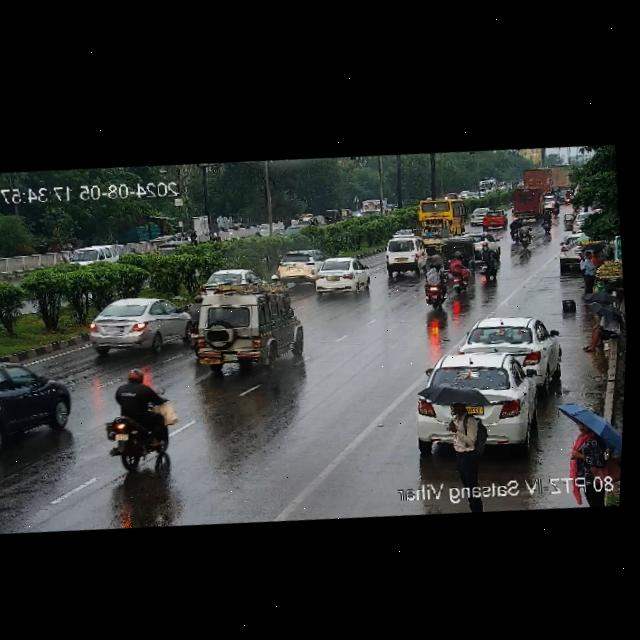car: (412, 345, 544, 458), (185, 282, 312, 377), (0, 352, 79, 462), (81, 288, 193, 363), (454, 308, 561, 384), (310, 253, 373, 300), (197, 262, 269, 300), (552, 229, 604, 272), (274, 244, 328, 284), (382, 230, 428, 276), (440, 234, 478, 269), (480, 211, 506, 231), (468, 207, 492, 226)
motorcycle: (106, 366, 177, 456), (417, 259, 453, 312), (445, 253, 473, 289), (478, 243, 499, 280)
person: (440, 396, 495, 508), (566, 415, 614, 508), (575, 285, 629, 355), (576, 250, 602, 296)
truck: (413, 195, 468, 241), (509, 187, 547, 219)
